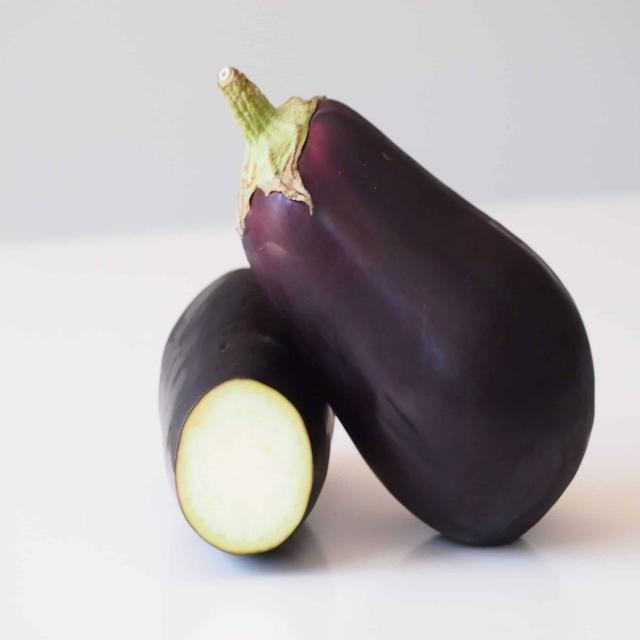eggplant: (218, 63, 600, 554), (162, 266, 334, 556)
